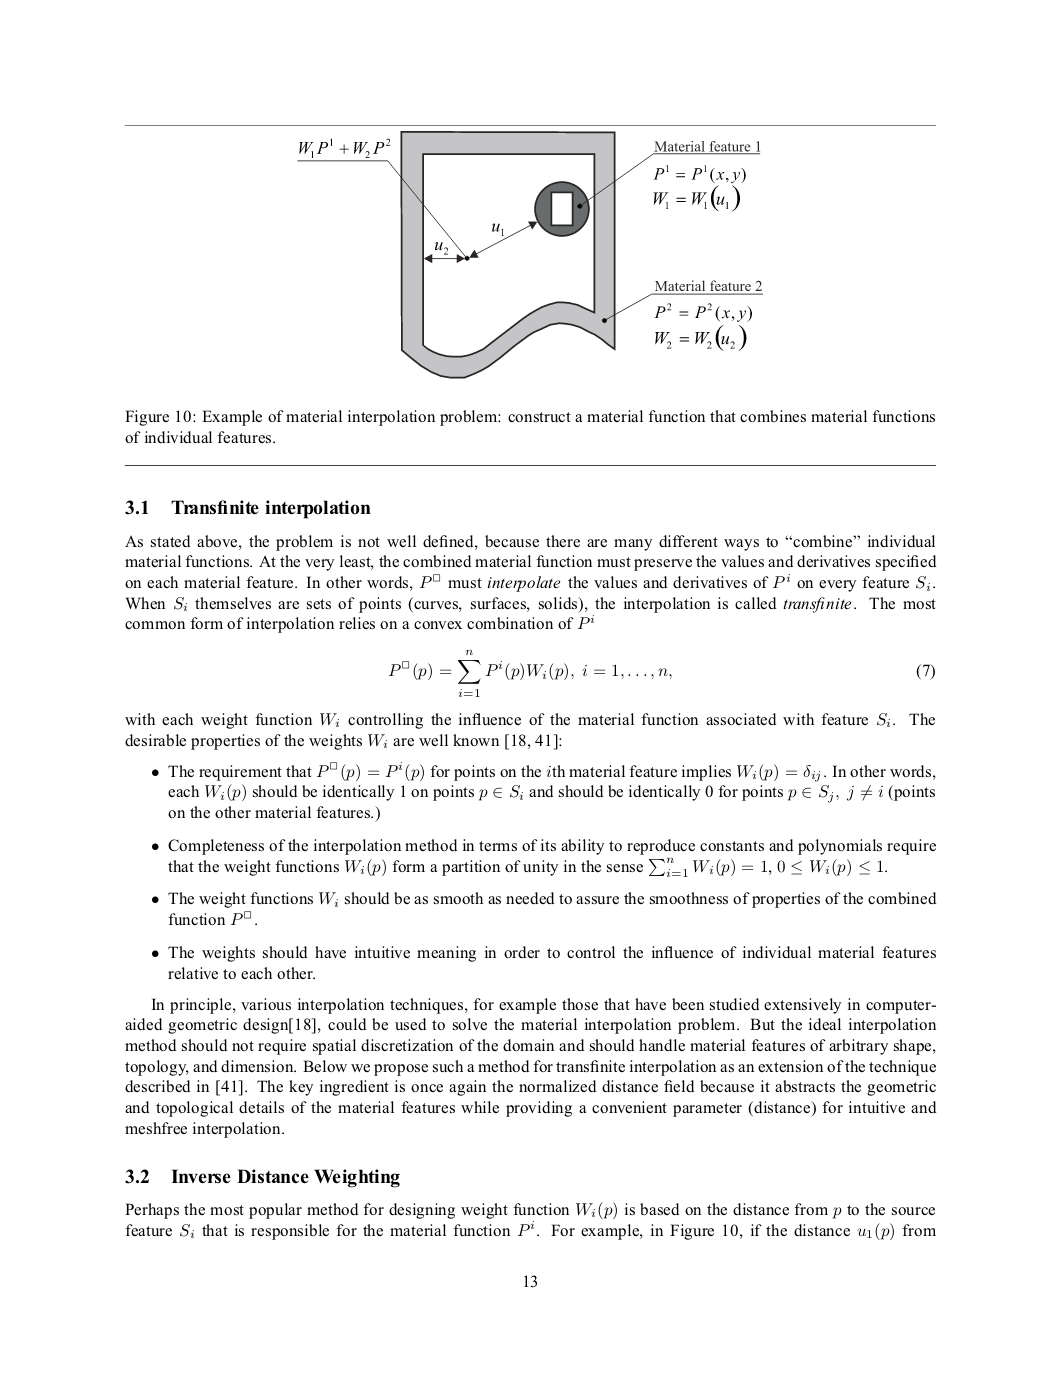figure: (296, 130, 762, 379)
formula: (388, 649, 934, 697)
